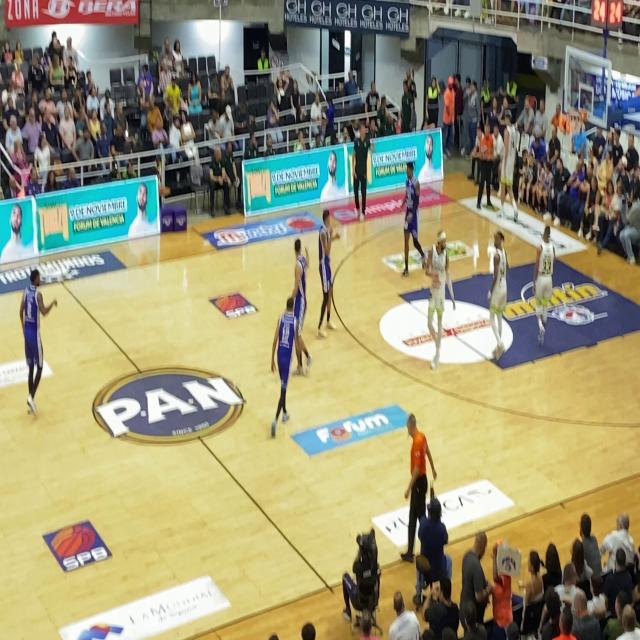team2: (18, 264, 58, 411)
